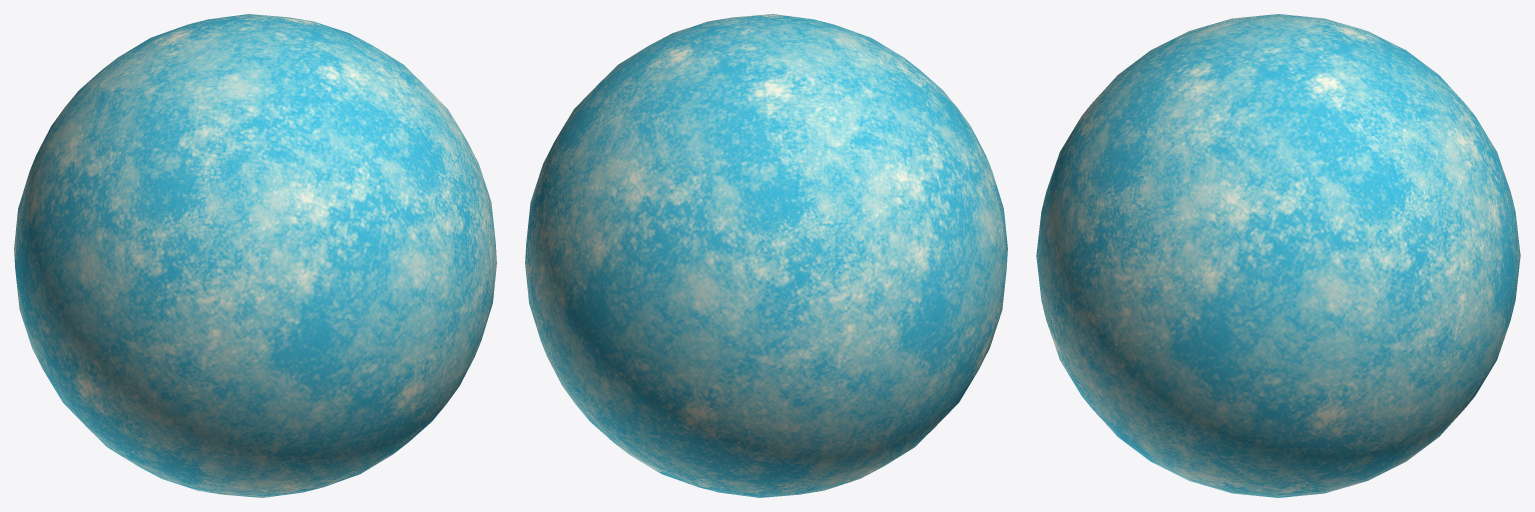
File: marble.gltf
3 views of the same model, side by side, from view 1: azimuth 30°, elevation 25°; view 2: azimuth 150°, elevation 25°; view 3: azimuth 270°, elevation 25° (orthographic).
Parts seen in each view (by area): view 1: marble; view 2: marble; view 3: marble.
Part boxes in pixels (x1=…): marble: x1=14, y1=14, x2=496, y2=497; marble: x1=525, y1=14, x2=1007, y2=497; marble: x1=1036, y1=14, x2=1520, y2=497.
Bounding box in the file's own units: 0.749 × 0.749 × 0.749.
5 materials, 5 textured.
